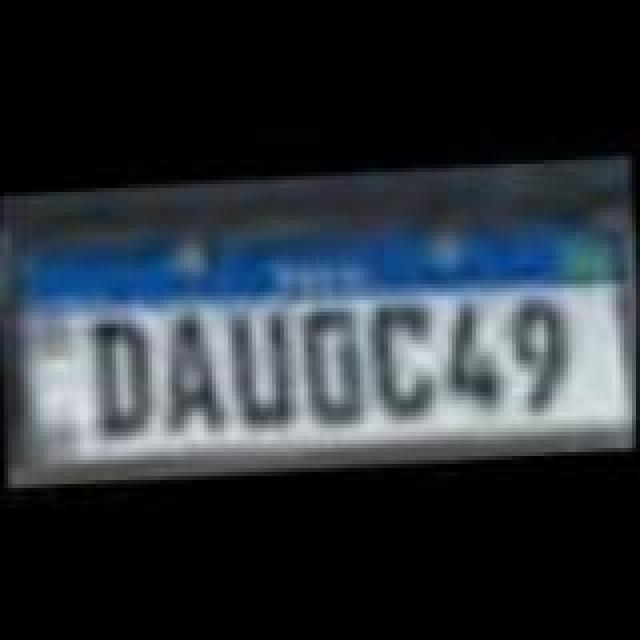4: (442, 292, 514, 412)
9: (502, 288, 582, 416)
A: (158, 314, 230, 438)
C: (366, 294, 446, 418)
D: (82, 310, 162, 434)
O: (296, 302, 372, 422)
U: (220, 306, 304, 434)
